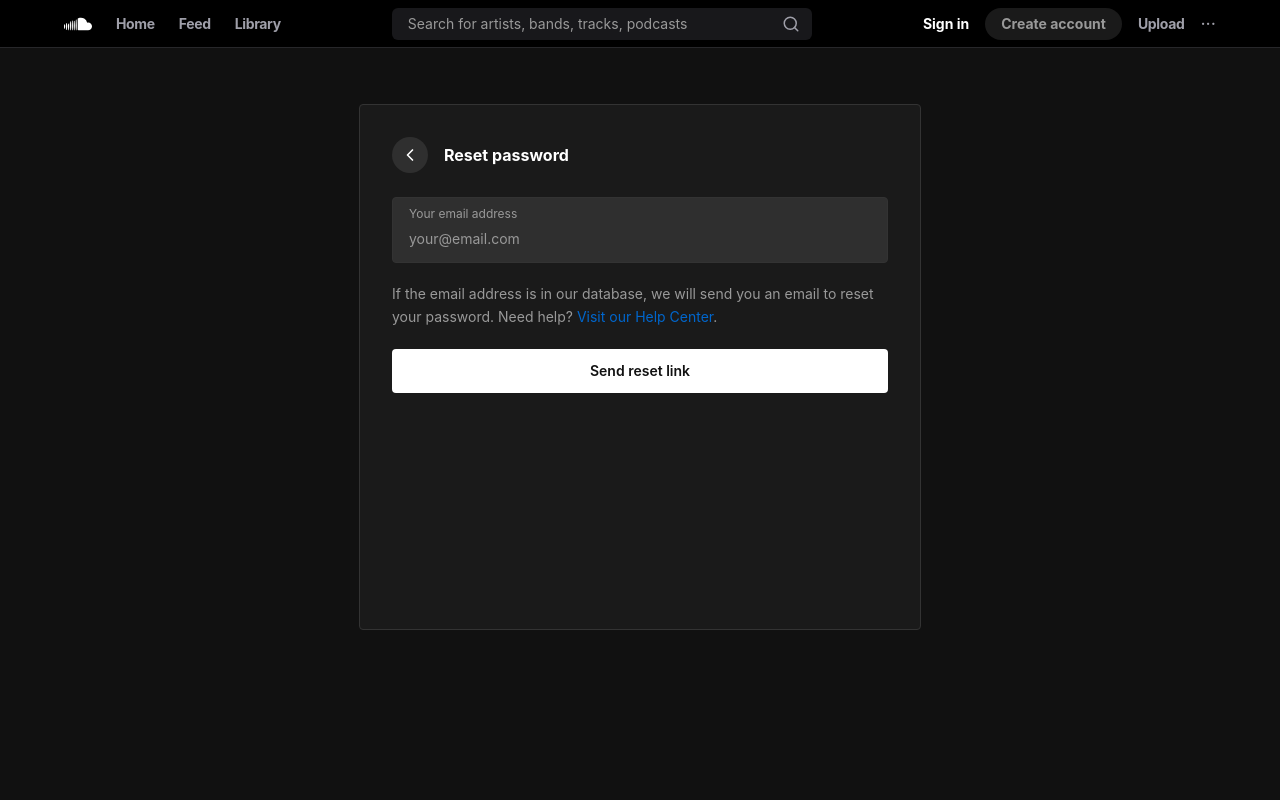
it: ForgotPasswordPage — validation › clears error when user starts typing after an error
Click the button "Send reset link".
click(640, 370)  # box [392,348,888,392]
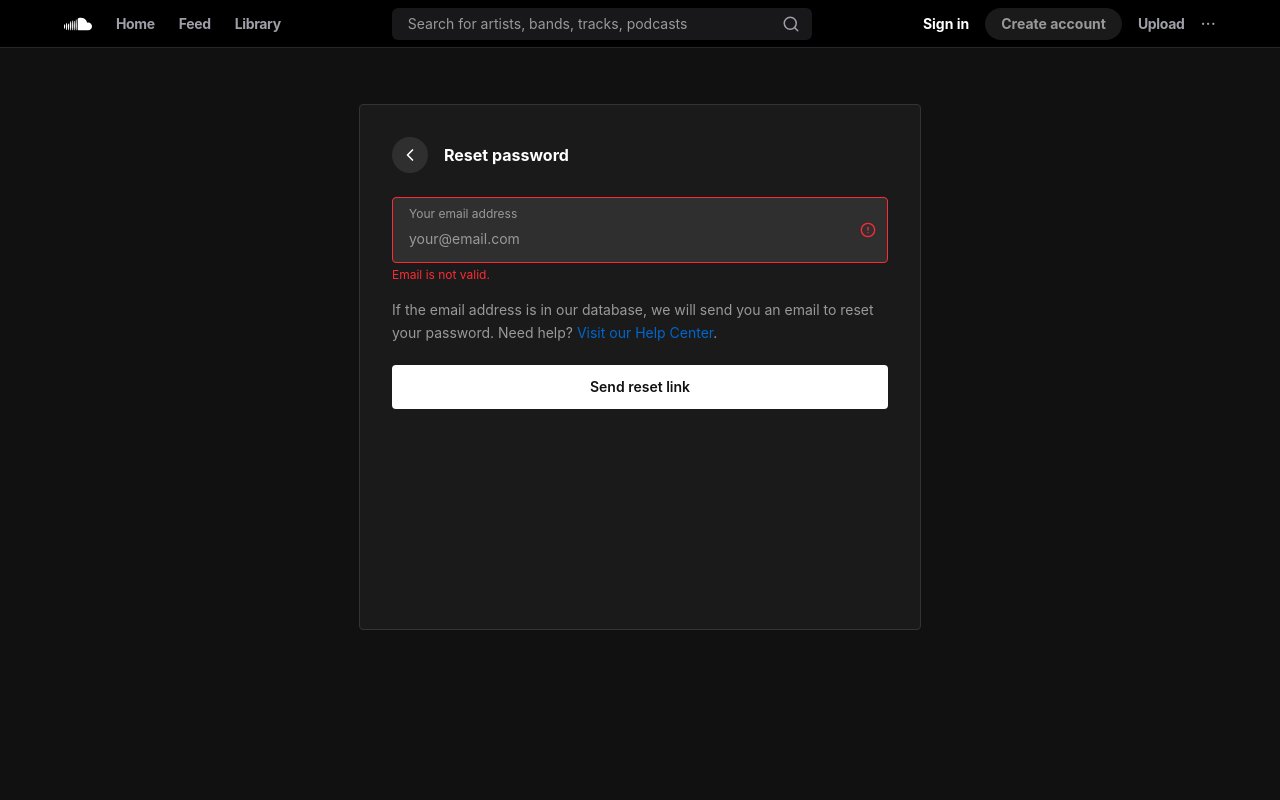
Check: the text "Email is not valid." is shown, box [392,267,490,282]
Type "a" into the field with placeholder "your@email.com".
click(640, 239); type("a")  # box [409,229,871,249]
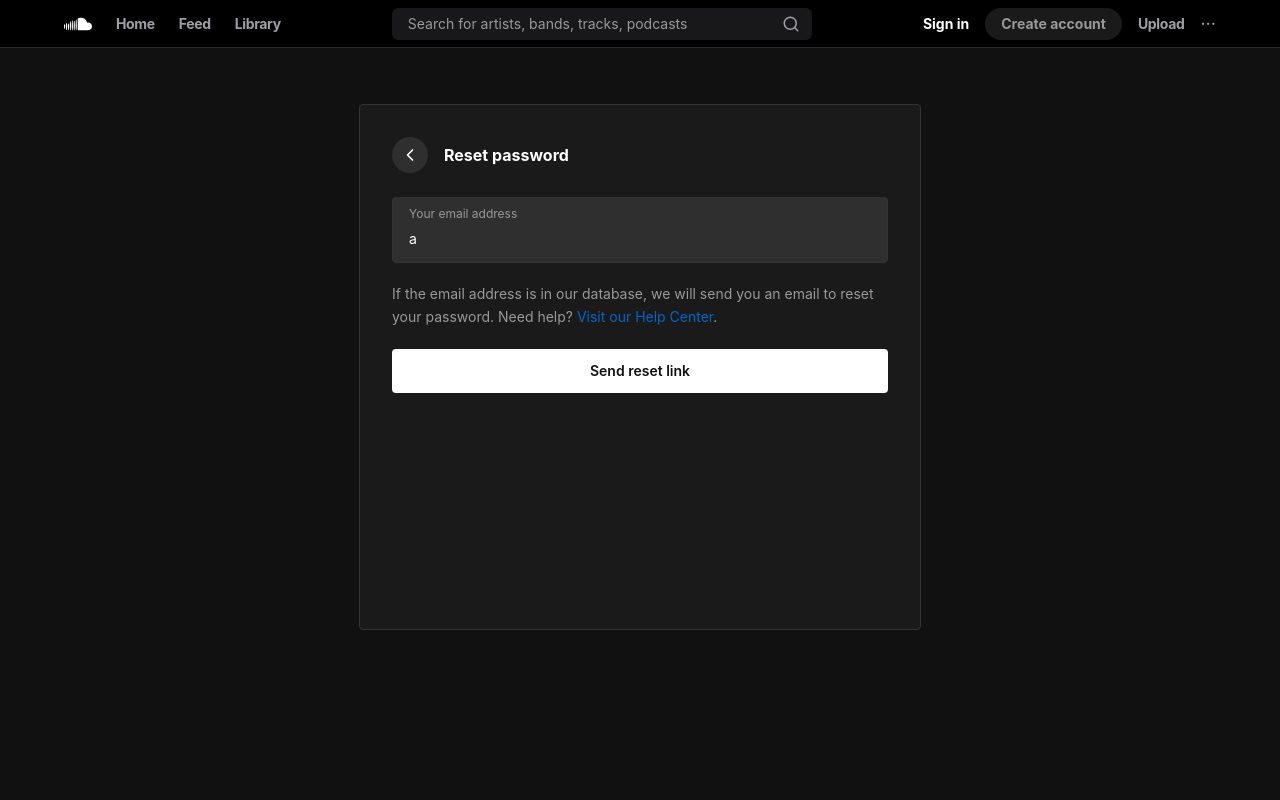
Check: the text "not valid" is gone
